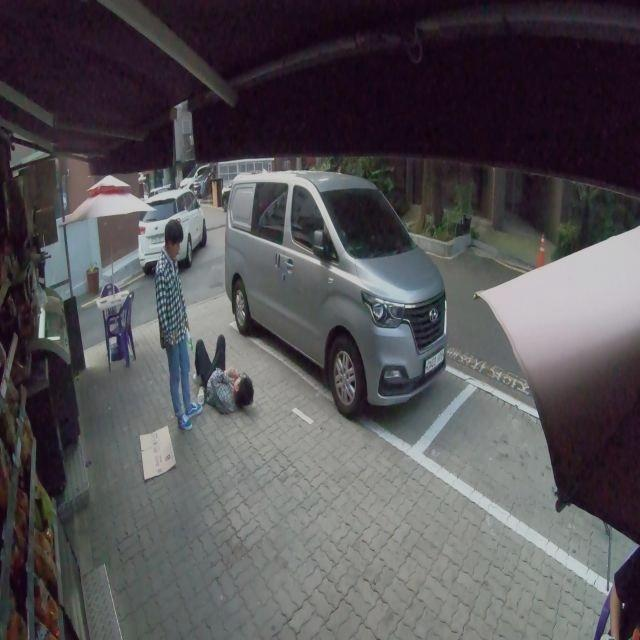non-fight: (154, 219, 199, 430), (194, 333, 253, 415)
